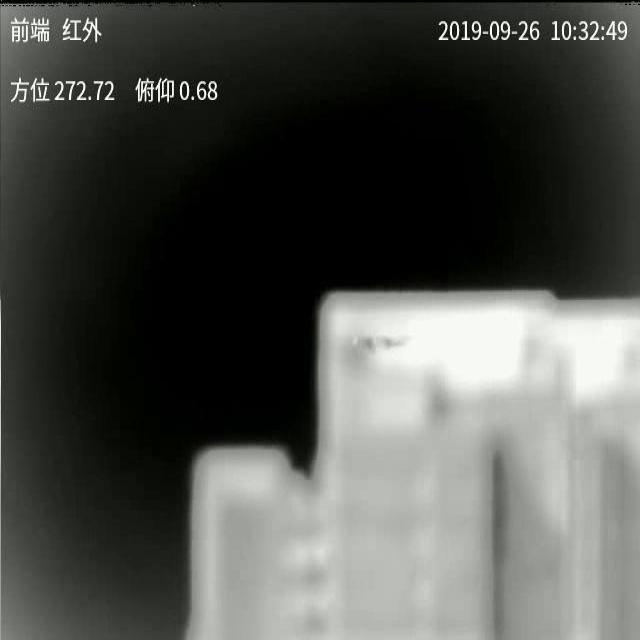drone: (350, 336, 406, 350)
